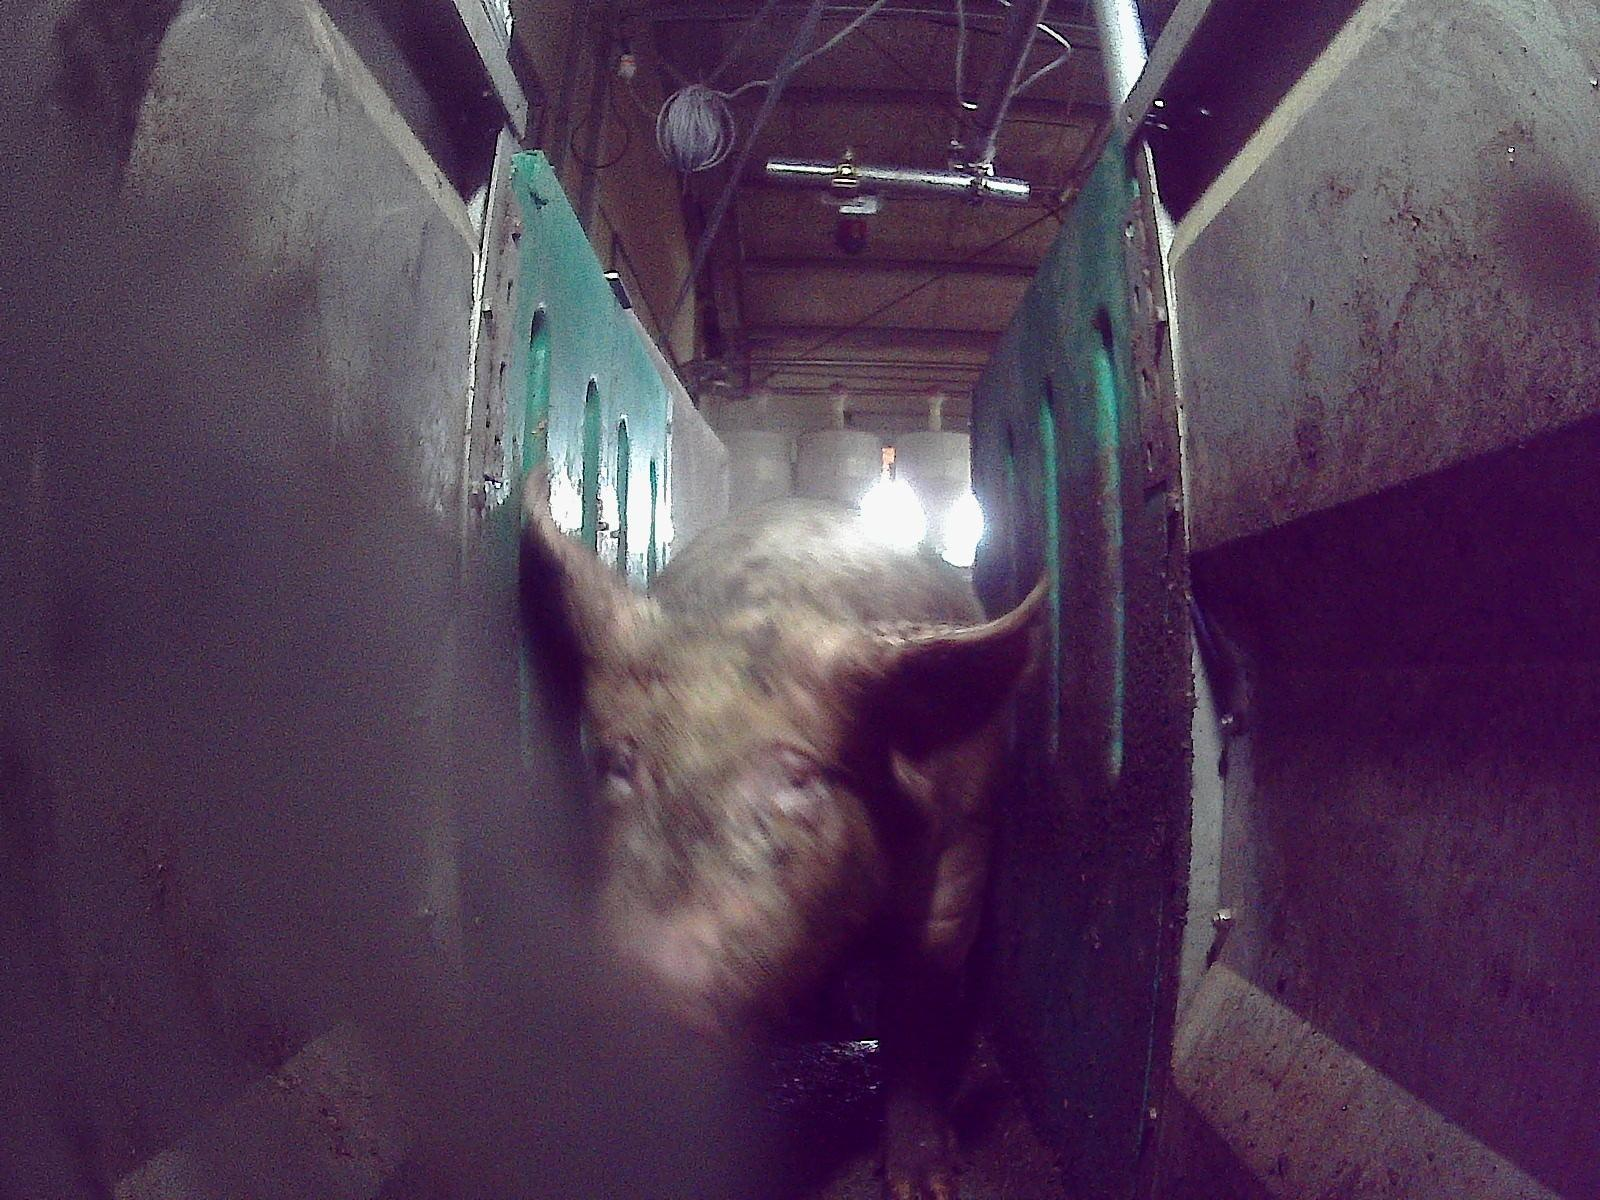Face: (580, 630, 897, 1076)
